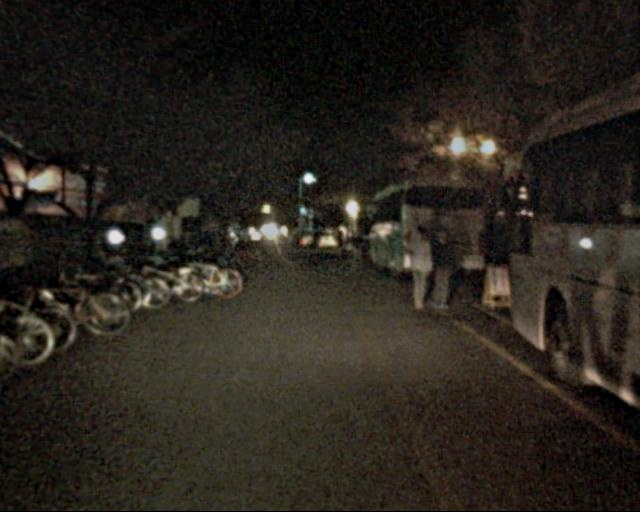person: (402, 227, 436, 310), (425, 227, 458, 308), (343, 225, 365, 279)
